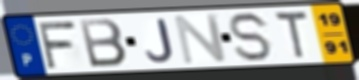B: (77, 17, 130, 69)
F: (35, 19, 78, 71)
J: (144, 17, 176, 64)
N: (172, 12, 230, 66)
S: (228, 10, 275, 64)
T: (272, 9, 310, 61)
